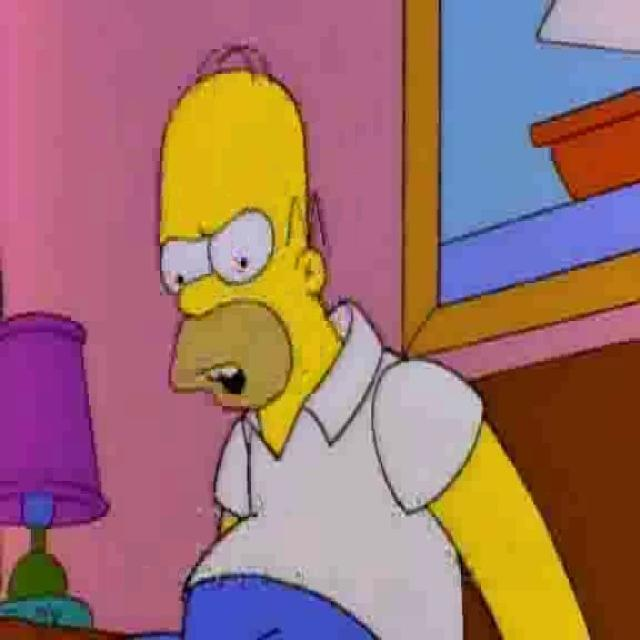Homer Simpson: (156, 41, 333, 427)
